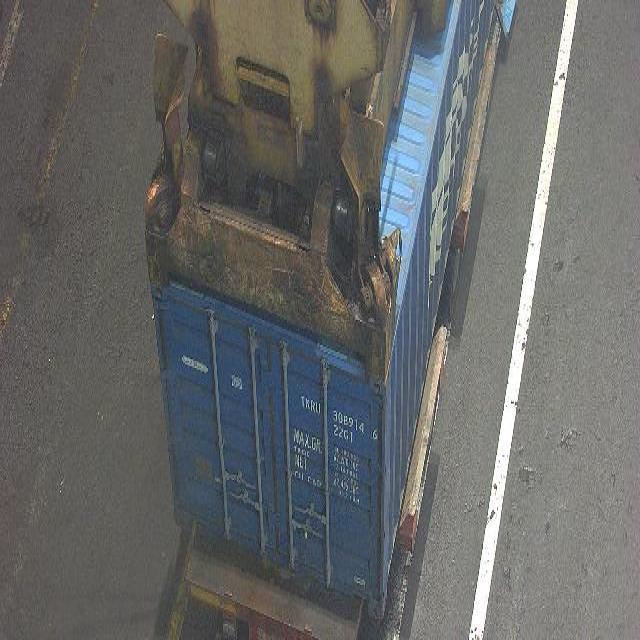ISO: (331, 424, 351, 442)
container_number: (300, 391, 380, 444)
